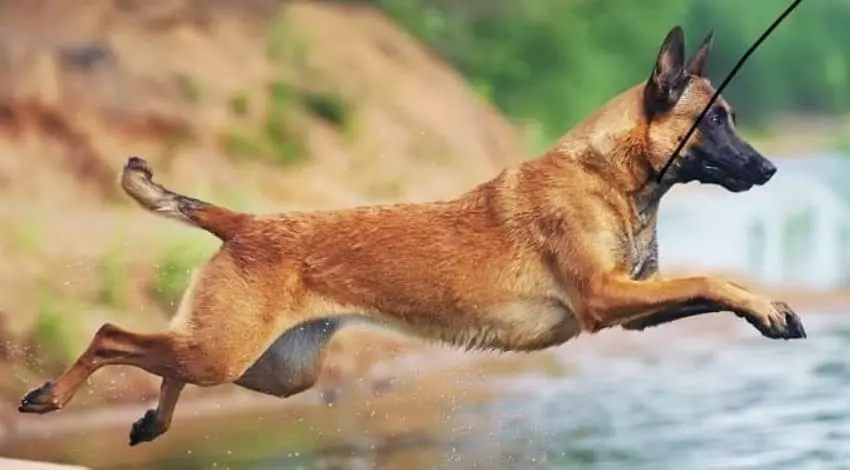dog: (22, 54, 837, 412)
